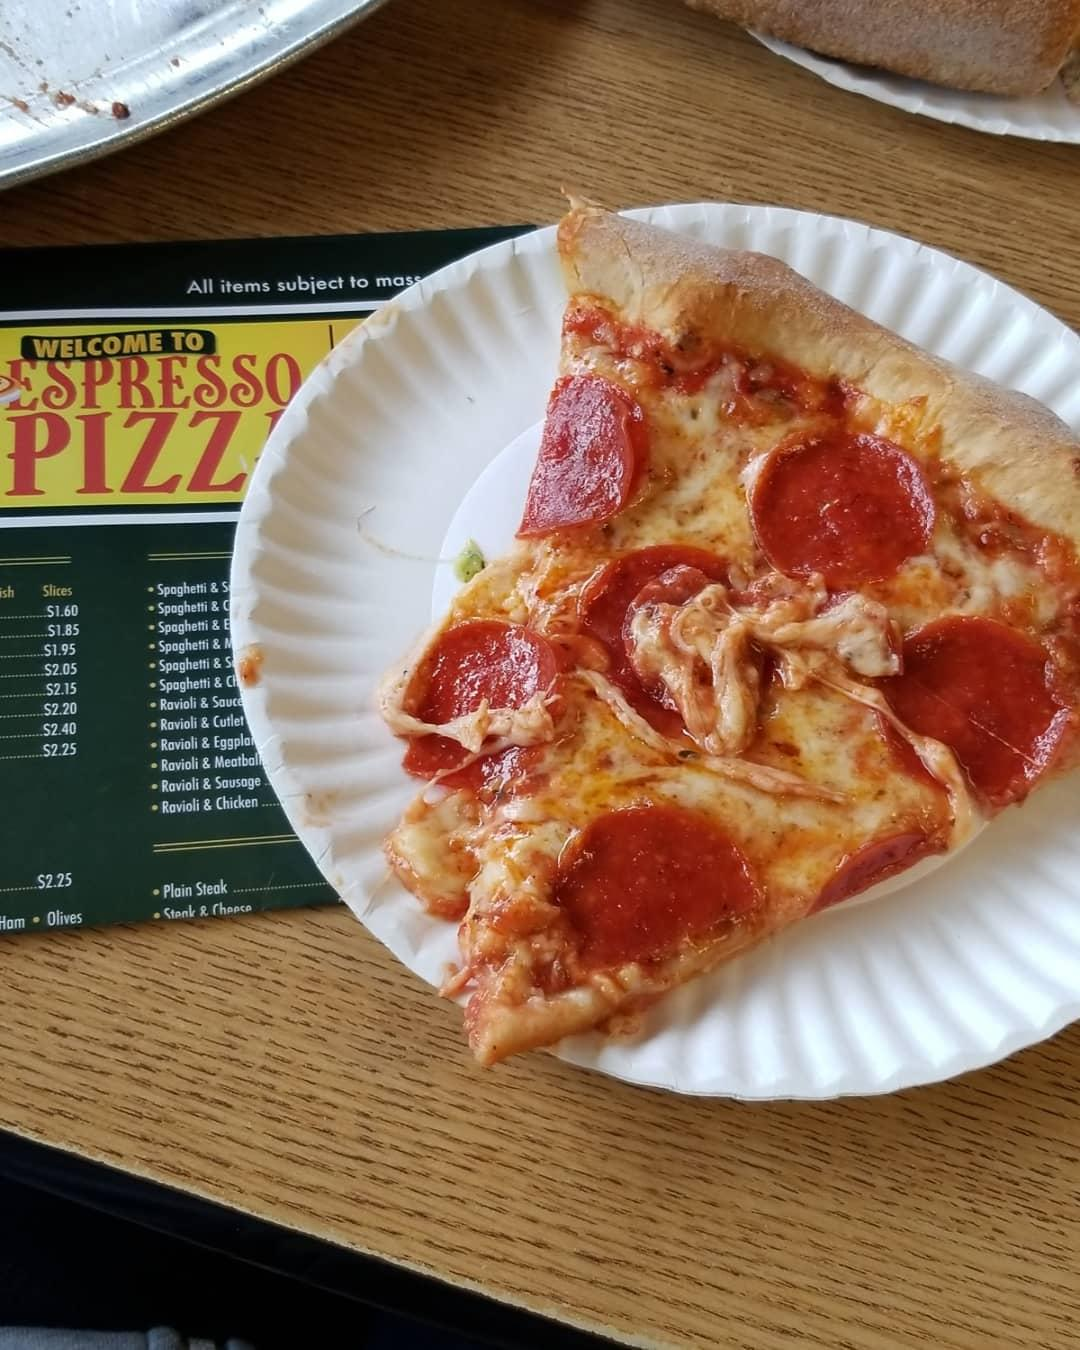Pepperoni: (544, 811, 767, 973), (882, 618, 1056, 812), (587, 554, 778, 722), (408, 628, 574, 799), (771, 441, 947, 588), (508, 371, 651, 549)
Pizza: (381, 191, 1080, 1068)
